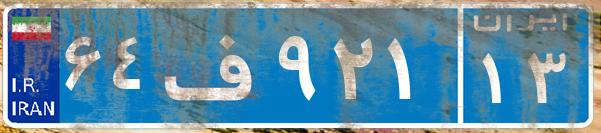1: (385, 28, 445, 110), (475, 38, 525, 113)
2: (330, 28, 385, 110)
3: (525, 38, 570, 115)
4: (110, 28, 158, 105)
6: (57, 26, 110, 107)
9: (273, 28, 330, 110)
ف: (158, 15, 273, 115)
